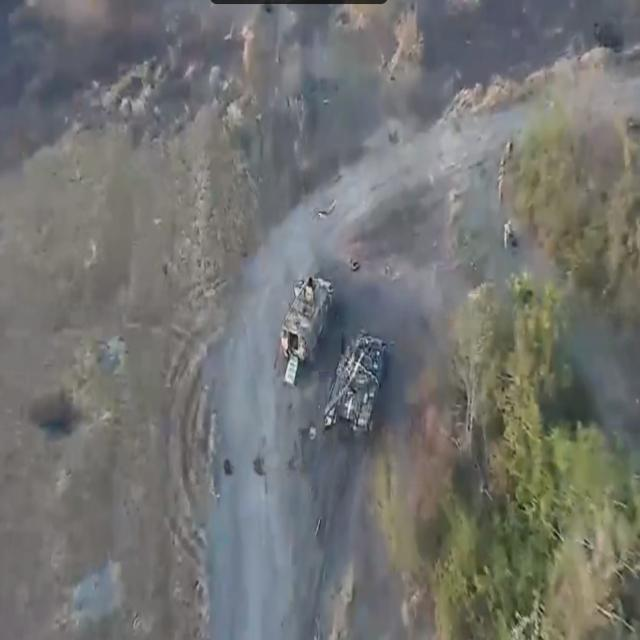MBT: (323, 330, 389, 436)
Vehicle: (279, 273, 336, 375)
